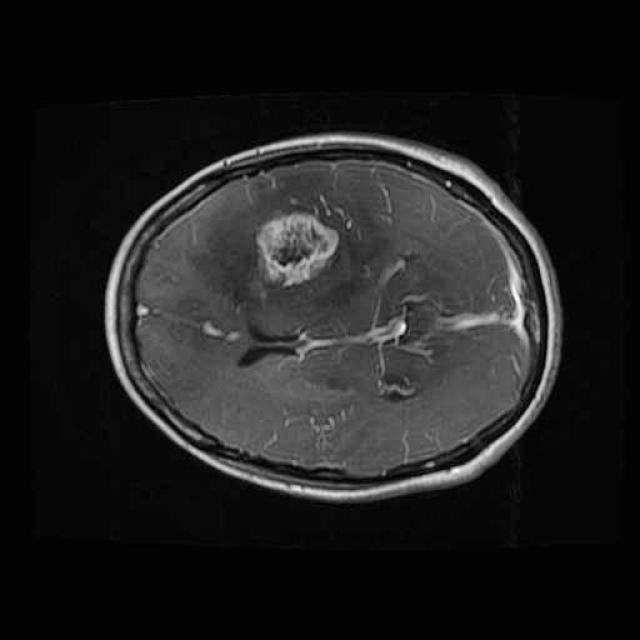Non-Tumor: (248, 210, 346, 294)
